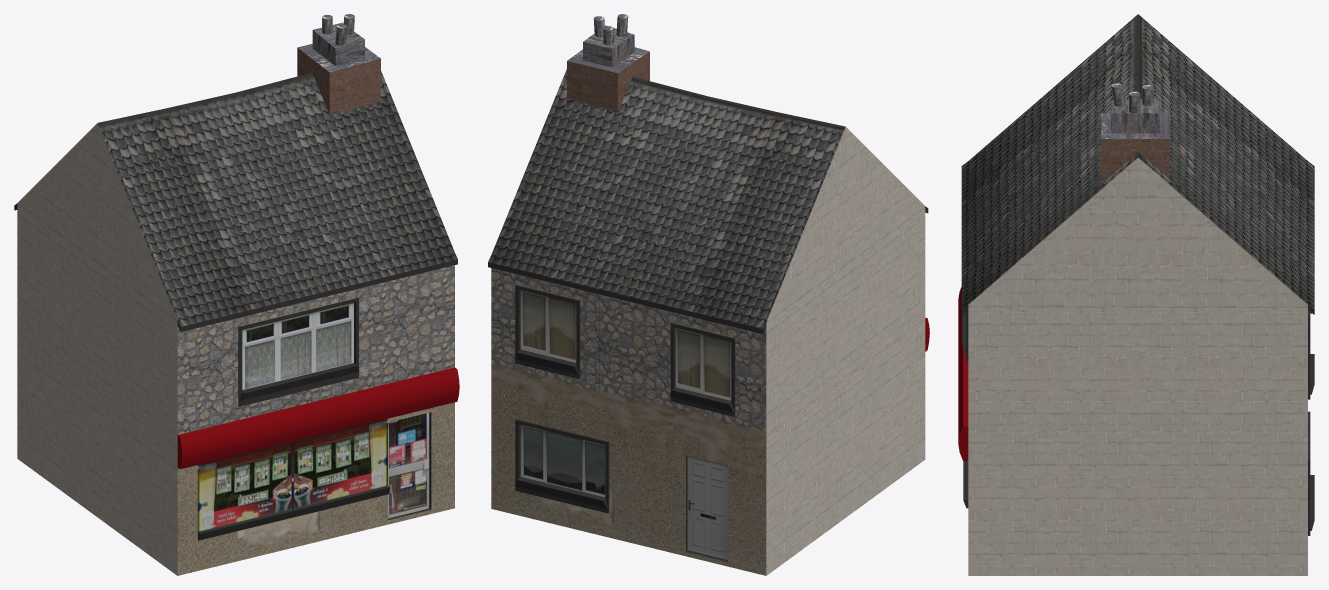
The model's file is ukcommercialfood18.FBX.
The picture shows the model from 3 angles, left to right: view 1: azimuth 30°, elevation 25°; view 2: azimuth 150°, elevation 25°; view 3: azimuth 270°, elevation 25°; orthographic projection. The views are drawn at different scales.
Parts seen in each view (by area): view 1: Box001; view 2: Box001; view 3: Box001.
Boxes of the visible parts, left/top/right/bottom form: Box001: left=14, top=14, right=459, bottom=575; Box001: left=488, top=14, right=929, bottom=575; Box001: left=958, top=14, right=1314, bottom=575.
Bounding box in the file's own units: 800 × 1216 × 839.
